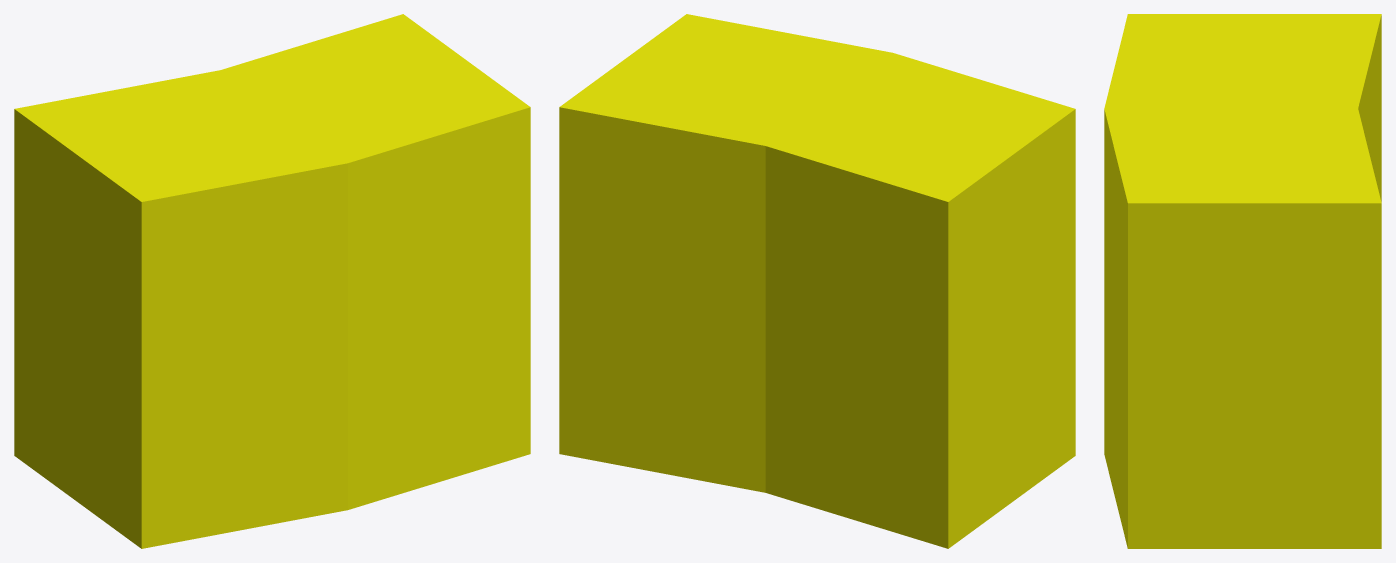
File: Piece2.fbx
The picture shows the model from 3 angles, left to right: view 1: azimuth 30°, elevation 25°; view 2: azimuth 150°, elevation 25°; view 3: azimuth 270°, elevation 25°; orthographic projection.
Parts seen in each view (by area): view 1: Block2; view 2: Block2; view 3: Block2.
Boxes of the visible parts, x1,y1,x2,y2 form: Block2: (14, 14, 530, 548); Block2: (559, 14, 1075, 548); Block2: (1104, 14, 1381, 548).
Bounding box in the file's own units: 176 × 150 × 109.
